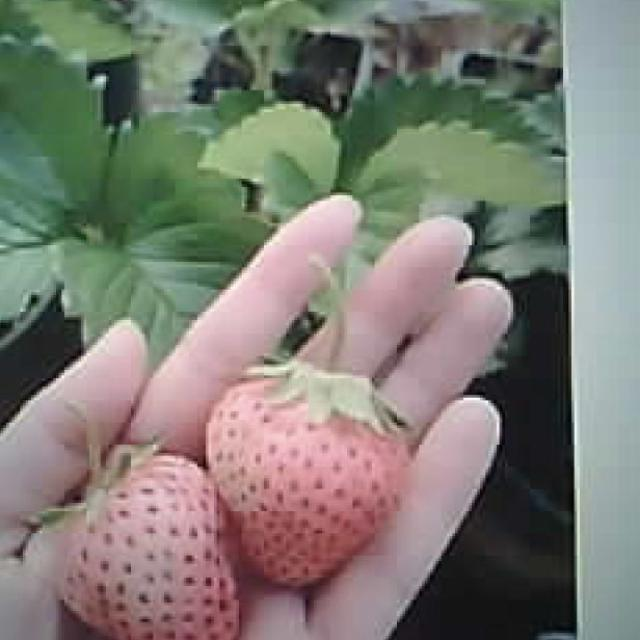Healthy Fruit: (202, 359, 414, 589), (54, 456, 239, 640)
